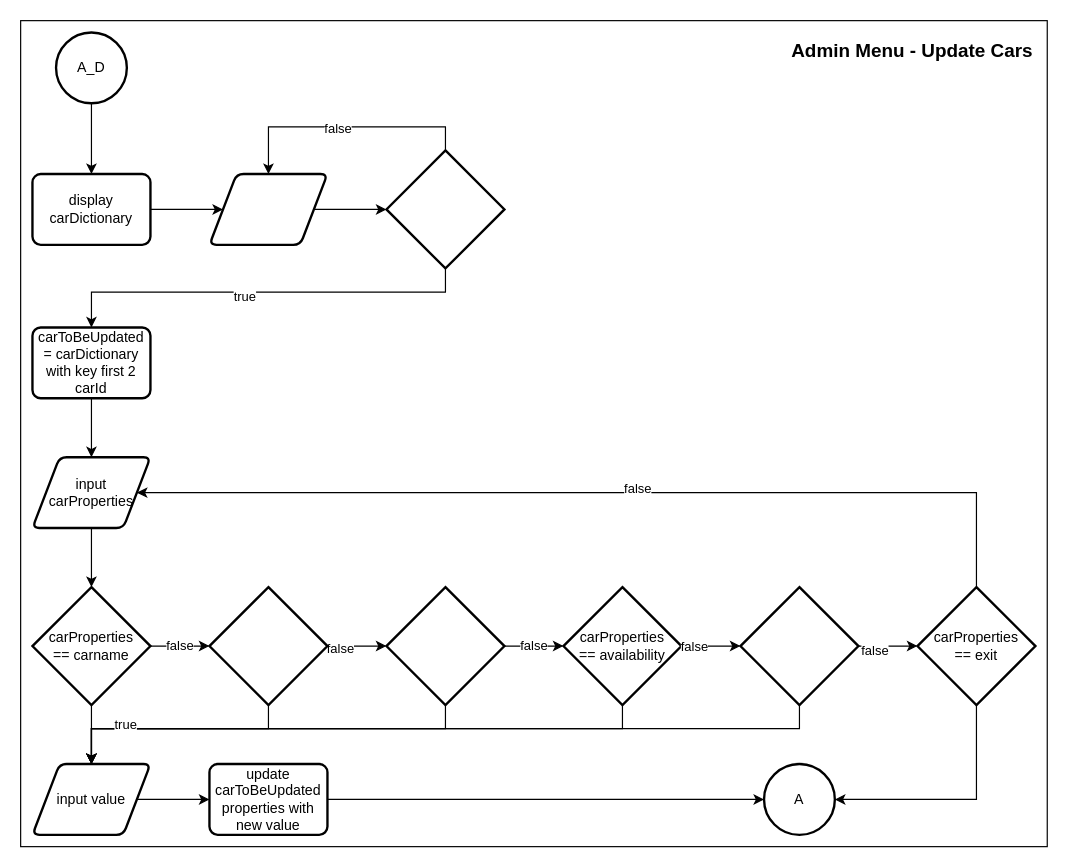
Image size: 1068x867. Some labels were removed from this diagram. The centre of each missing label's shape, as x and y in pixels:
carId exist in carDictionary: pixel 445 209
carProperties == carbrand: pixel 268 645
carProperties == carseats: pixel 799 645
carProperties == rentalprice: pixel 445 645
Input carId: pixel 268 208
